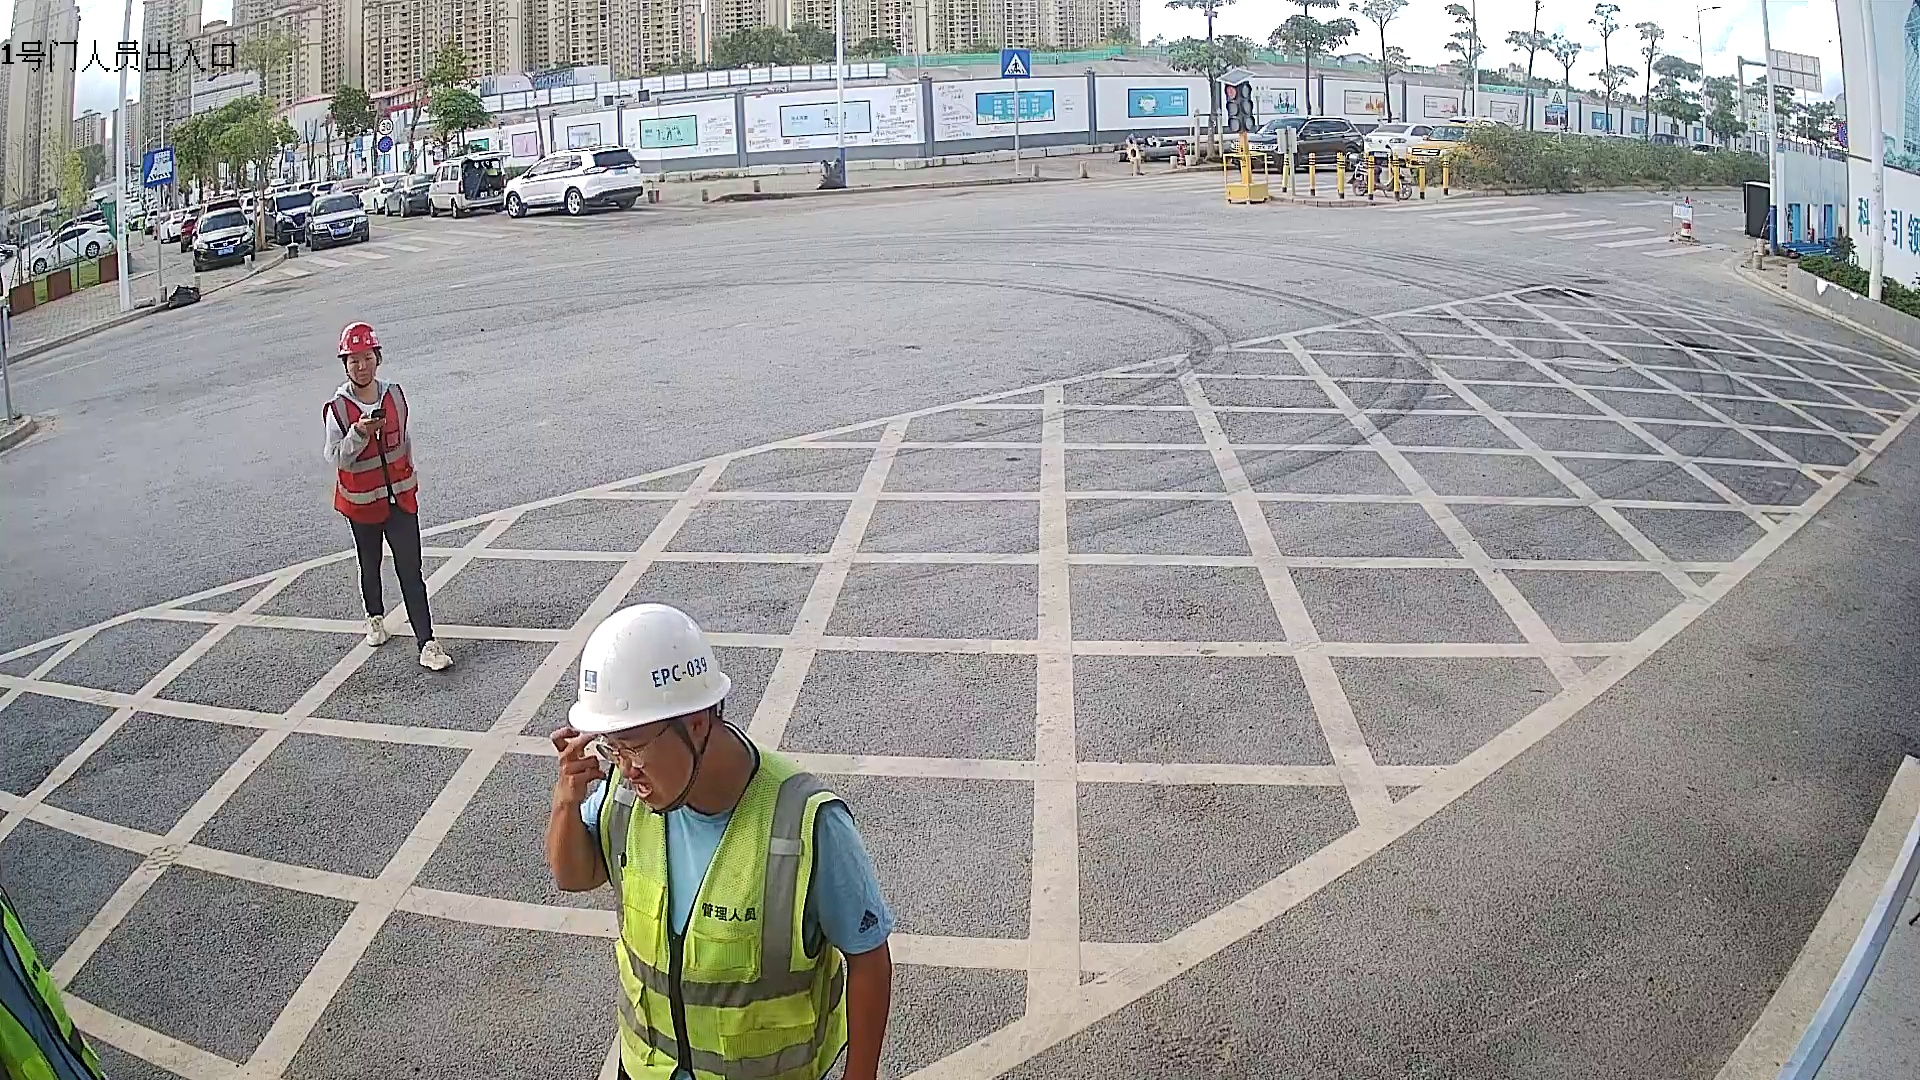person: (540, 595, 896, 1080), (317, 314, 459, 675)
reflective_vest: (593, 742, 848, 1080), (319, 381, 422, 528)
safety_helmet: (566, 597, 736, 823), (336, 317, 384, 388)
